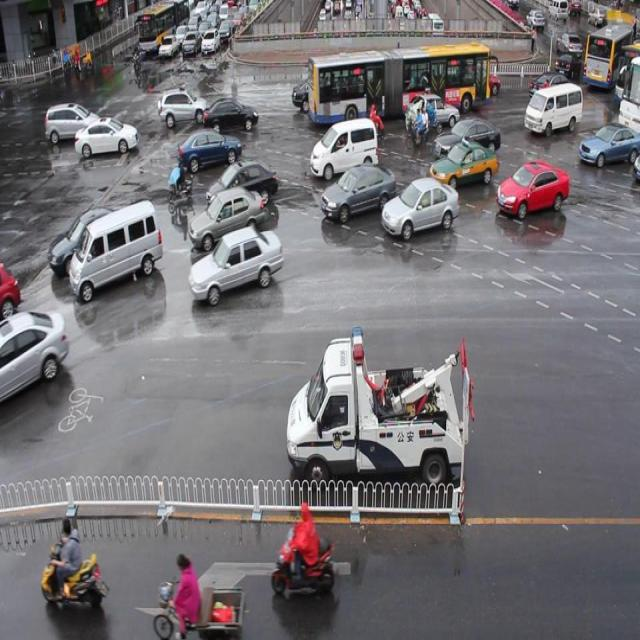BigCar: (308, 40, 499, 124), (581, 20, 627, 99), (129, 0, 181, 60)
car: (286, 332, 485, 509), (67, 203, 164, 308), (183, 230, 286, 306), (0, 310, 69, 402), (191, 178, 273, 250), (389, 172, 464, 250), (302, 118, 390, 184), (498, 164, 573, 231), (520, 71, 589, 141), (426, 141, 503, 199), (204, 155, 278, 214), (313, 167, 392, 221), (192, 78, 257, 142), (436, 107, 507, 161), (73, 110, 141, 160), (578, 115, 637, 171), (36, 89, 99, 141), (156, 78, 206, 134), (557, 20, 584, 66), (201, 24, 224, 61), (159, 29, 179, 63), (180, 28, 201, 59)
